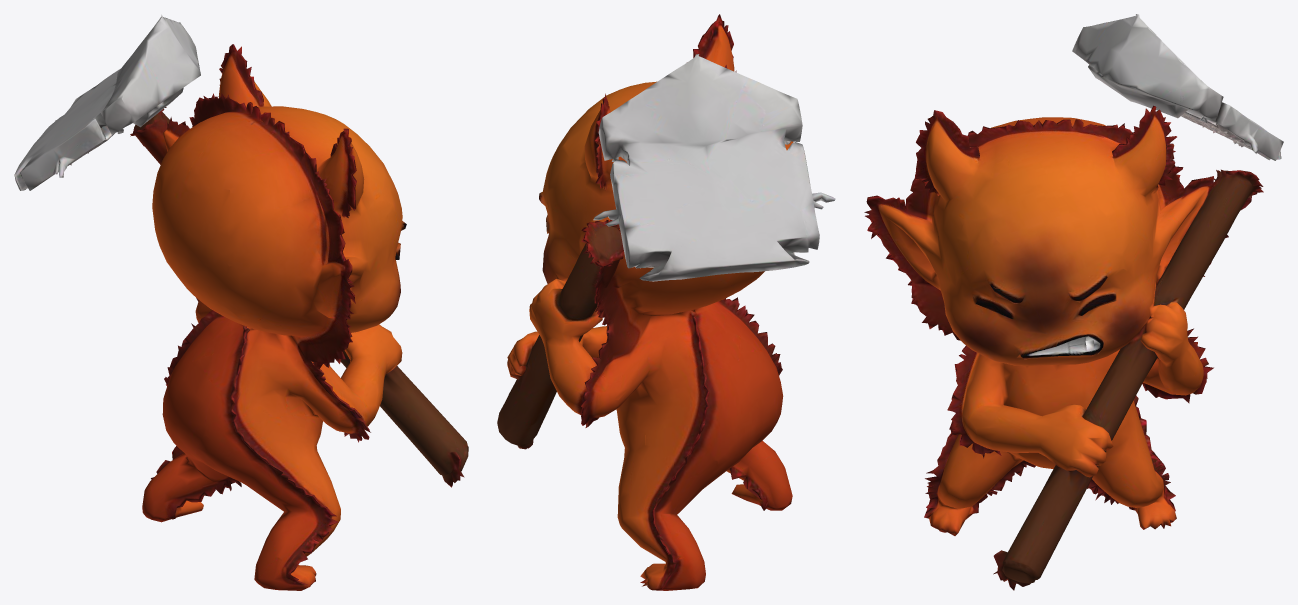
File: imp.glb
3 views of the same model, side by side, from view 1: azimuth 30°, elevation 25°; view 2: azimuth 150°, elevation 25°; view 3: azimuth 270°, elevation 25° (orthographic). The views are drawn at different scales.
Visible parts, largest first — view 1: tripo_node_7b0c419f-6d23-4a0a-b415-c3bc4013df0c; view 2: tripo_node_7b0c419f-6d23-4a0a-b415-c3bc4013df0c; view 3: tripo_node_7b0c419f-6d23-4a0a-b415-c3bc4013df0c.
Boxes of the visible parts, x1=… form: tripo_node_7b0c419f-6d23-4a0a-b415-c3bc4013df0c: x1=14, y1=14, x2=468, y2=590; tripo_node_7b0c419f-6d23-4a0a-b415-c3bc4013df0c: x1=497, y1=14, x2=835, y2=590; tripo_node_7b0c419f-6d23-4a0a-b415-c3bc4013df0c: x1=864, y1=14, x2=1283, y2=590.
Size of the model in its own units: 0.7736 by 1 by 0.7676.
Materials: 1 (1 with a texture image).
